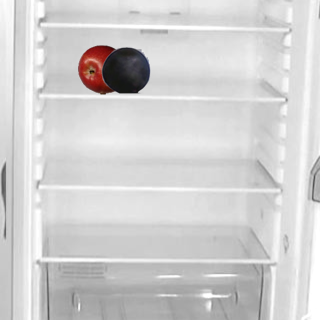Apple Braeburn: (77, 44, 127, 94)
Grape Blue: (100, 44, 150, 94)
